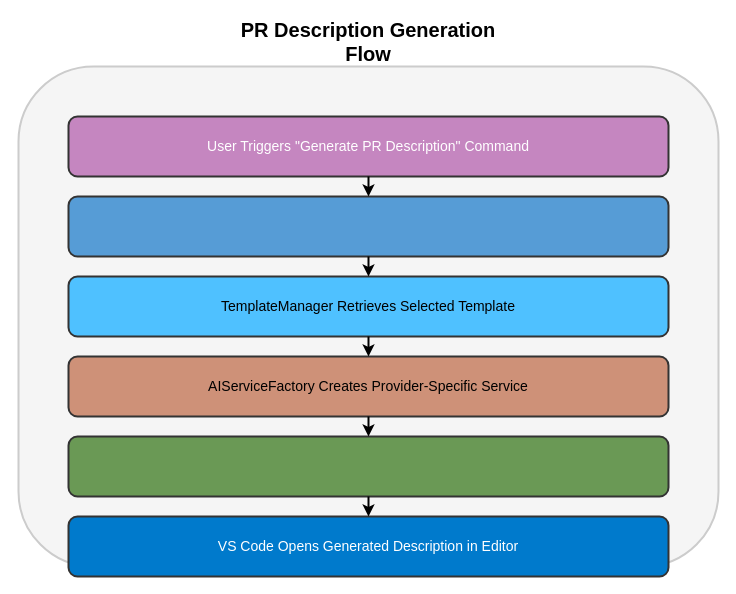
Some shapes in this 736 by 594 pixel diagram are drawn without their labels. The centre of each missing label's shape, as x and y in pixels:
"AI Service Generates PR Description Based on Diff & Template" goes at point 368,466.
"GitDiffReader Extracts Staged/Unstaged Changes" goes at point 368,226.
